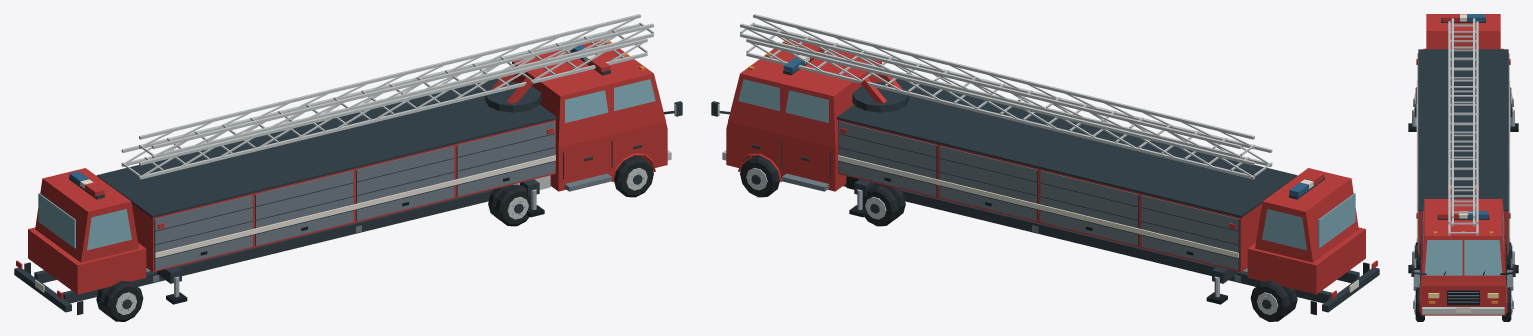
The model's file is b15_tiller_ladder_fire_truck.glb.
The picture shows the model from 3 angles, left to right: view 1: azimuth 30°, elevation 25°; view 2: azimuth 150°, elevation 25°; view 3: azimuth 270°, elevation 25°; orthographic projection. The views are drawn at different scales.
Visible parts, largest first — view 1: b15_tiller_ladder_fire_truck; view 2: b15_tiller_ladder_fire_truck; view 3: b15_tiller_ladder_fire_truck.
Part boxes in pixels (x1,y1,x2,y2): b15_tiller_ladder_fire_truck: (14,14,682,321); b15_tiller_ladder_fire_truck: (711,14,1379,321); b15_tiller_ladder_fire_truck: (1408,14,1518,321).
Bounding box in the file's own units: 15.99 × 3.69 × 3.08.
